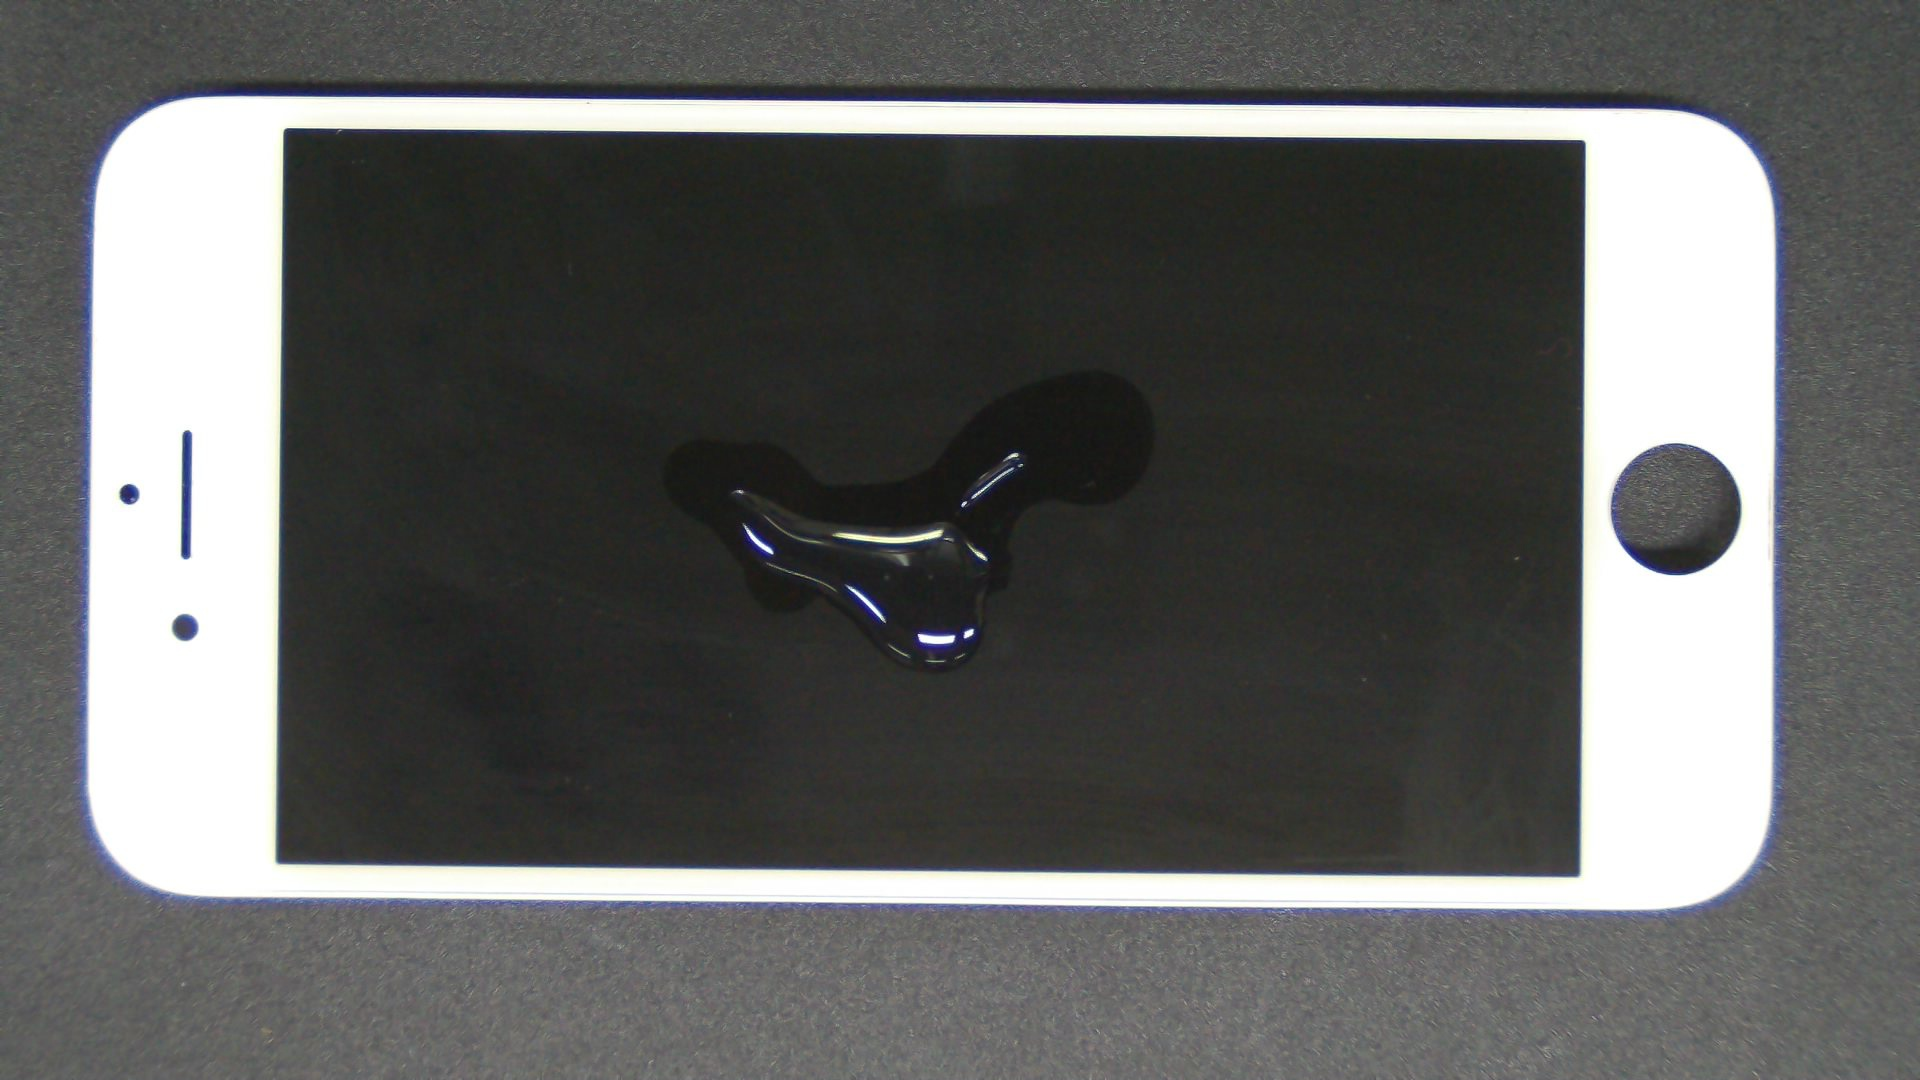oil: (546, 183, 1636, 551)
